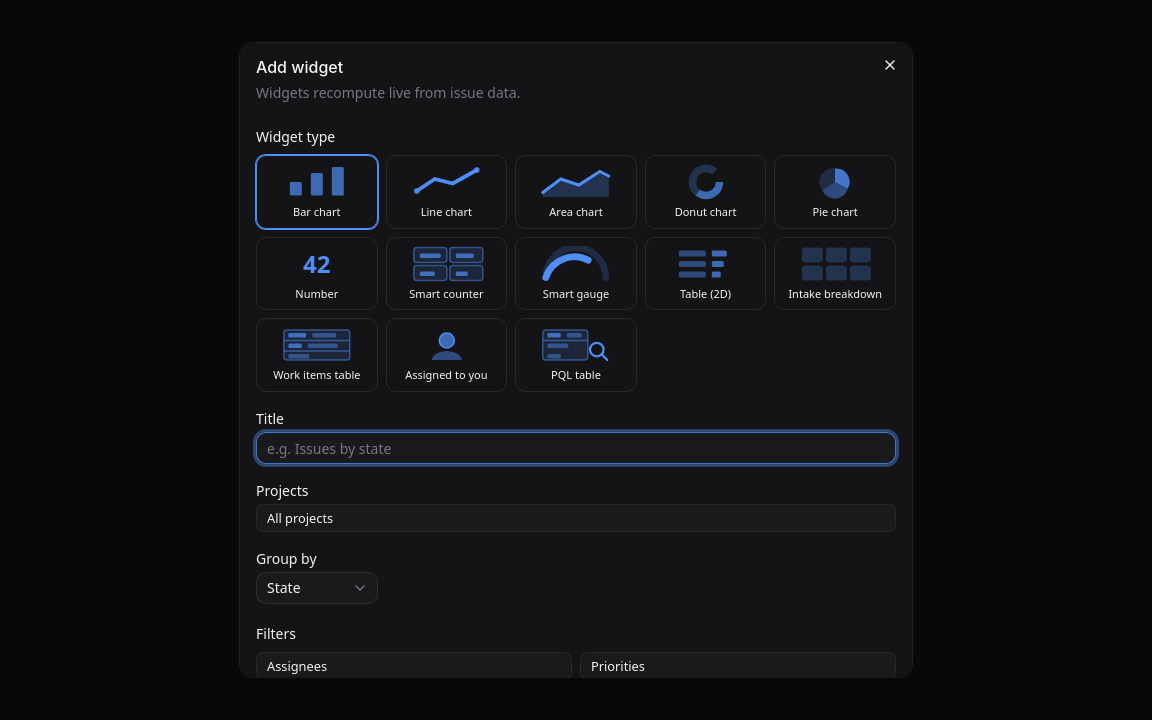
WidgetDialog › hides group-by for number and shows the filter summary instead
This screenshot has width=1152, height=720.
Click the radio button labelled "42 Number".
click(317, 274)  # box [256,237,378,311]
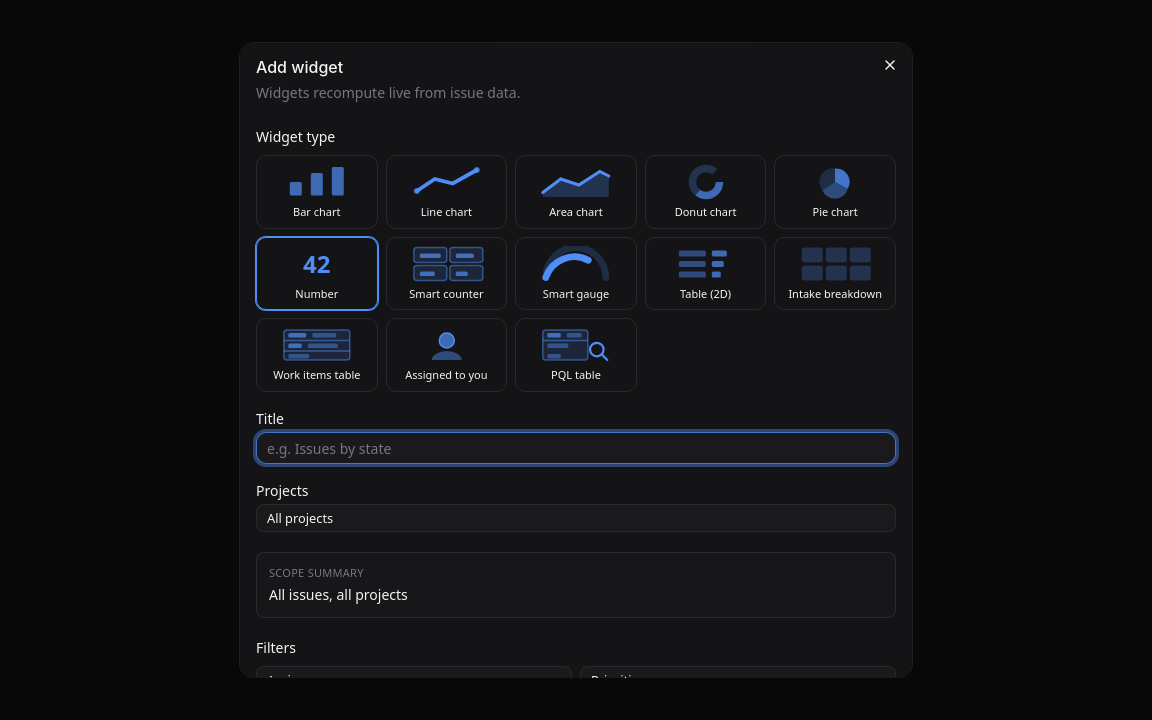
Result: the label labelled "Group by" is gone
Result: the text "Scope summary" is shown at [269,565,364,580]
Result: the text "All issues, all projects" is shown at [269,585,408,604]
